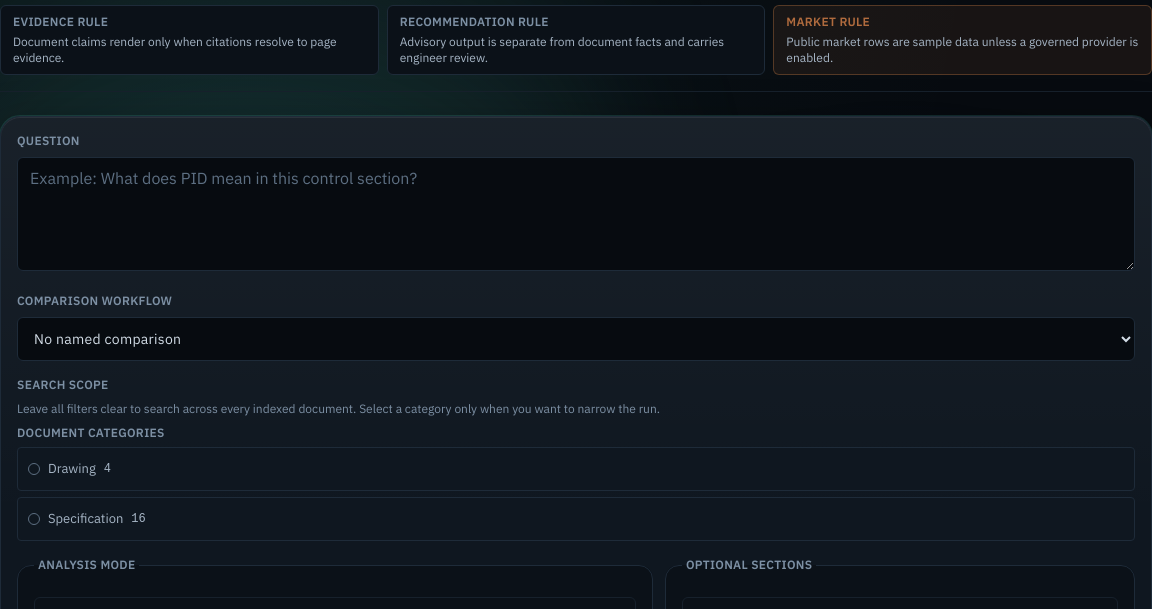
it: AnalysisModeScreen: the rendered scope count is the server's, never a local count › shows the pending notice, not a stale count, once the ticks change after a run
Step 1. Click the checkbox labelled "Drawing 4" → (72, 469), box [17,447,1135,491]
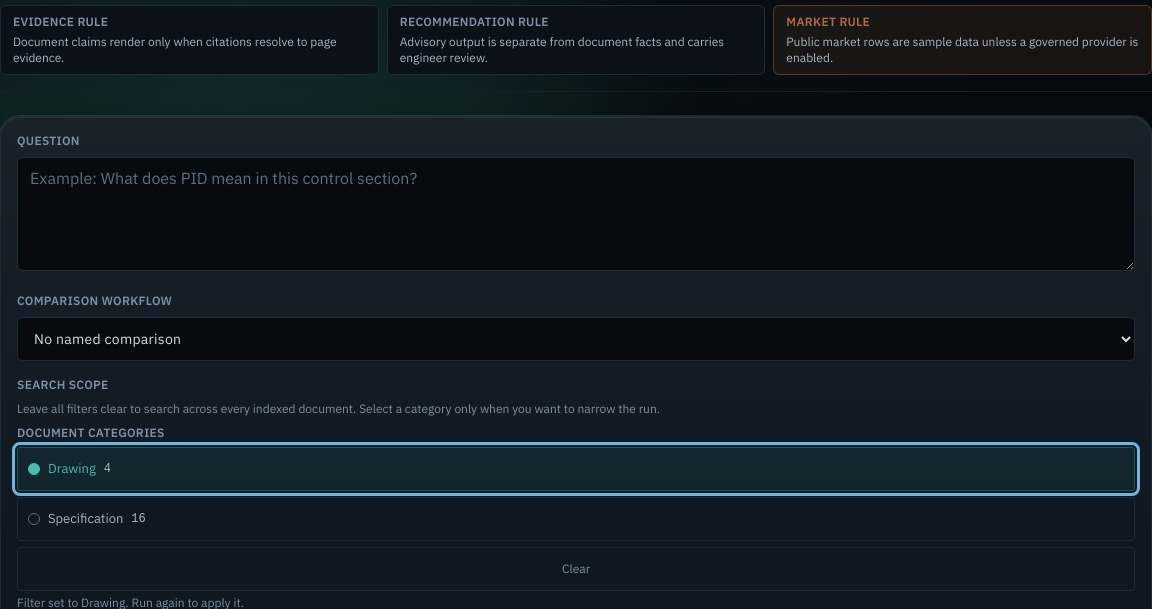
Step 2. Type "what is the pressure floor" into the text box labelled "Question" → (576, 214), box [17,157,1135,271]
(page scrolled)
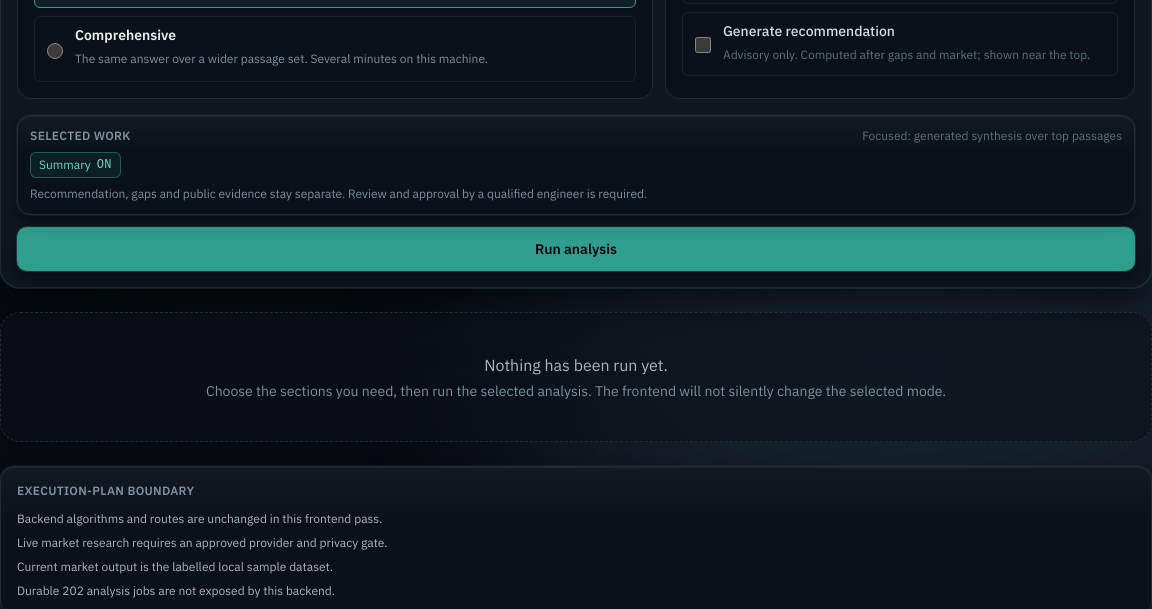
Step 3. Click the button "Run analysis" → (576, 249), box [17,227,1135,271]
(page scrolled)
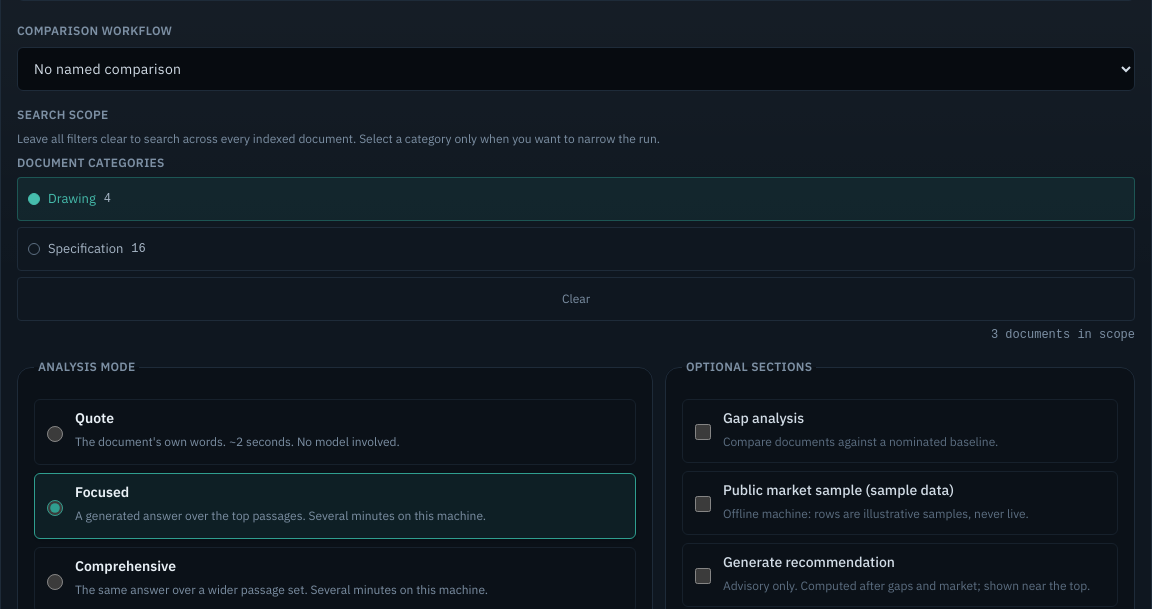
Expected: the text "3 documents in scope" is shown, [991,327,1135,343]
Step 4. Click the checkbox labelled "Specification 16" → (86, 249), box [17,227,1135,271]
(page scrolled)
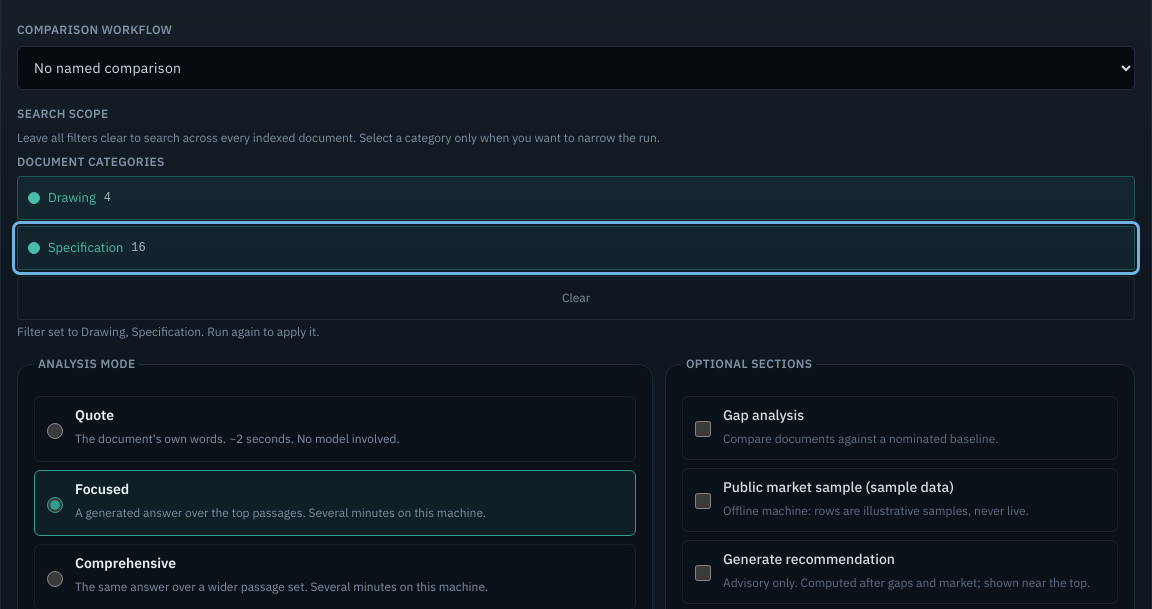
Expected: the text "3 documents in scope" is gone
Expected: the text "Filter set to Drawing, Specification. Run again to apply it." is shown, [17,324,320,339]
